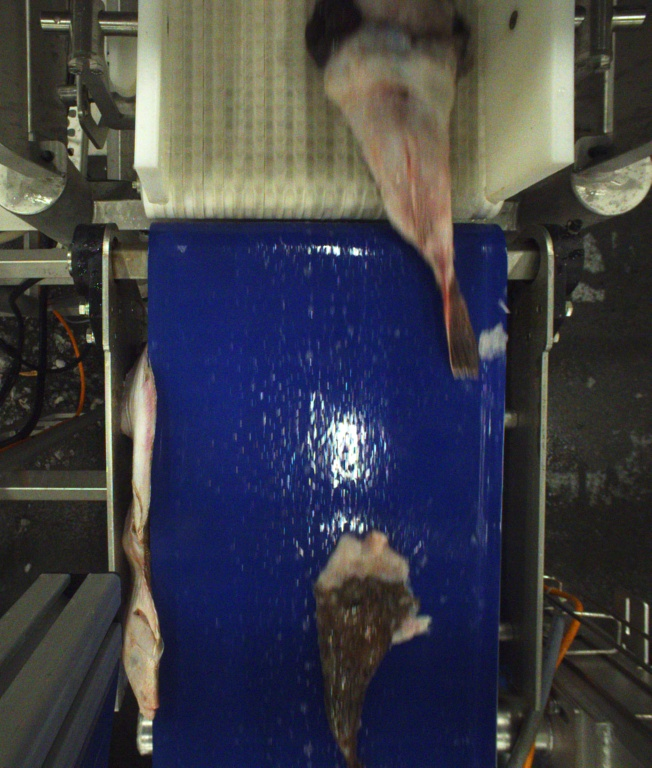ANF: (310, 532, 426, 768)
